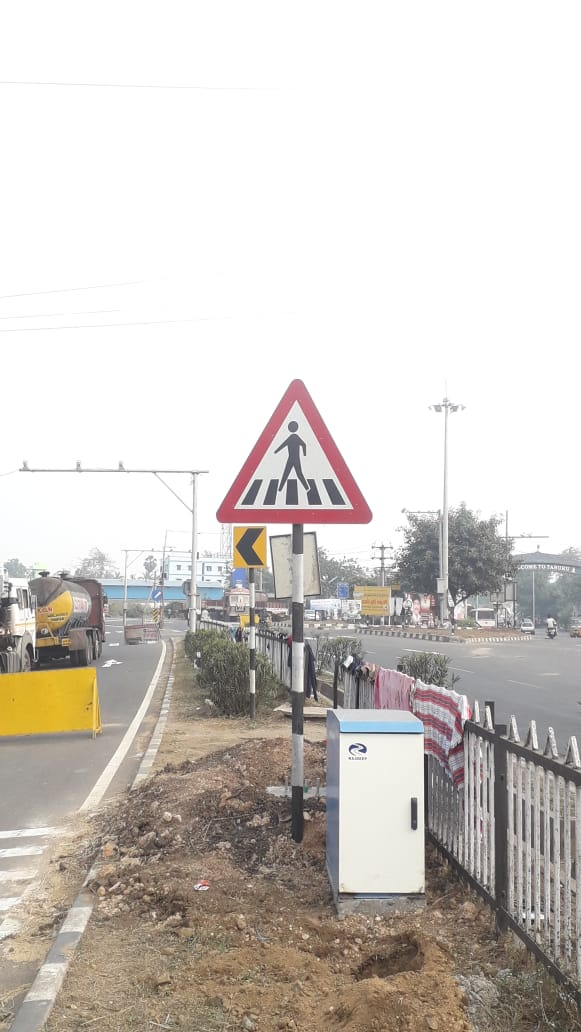pedestrian crossing: (209, 370, 373, 539)
